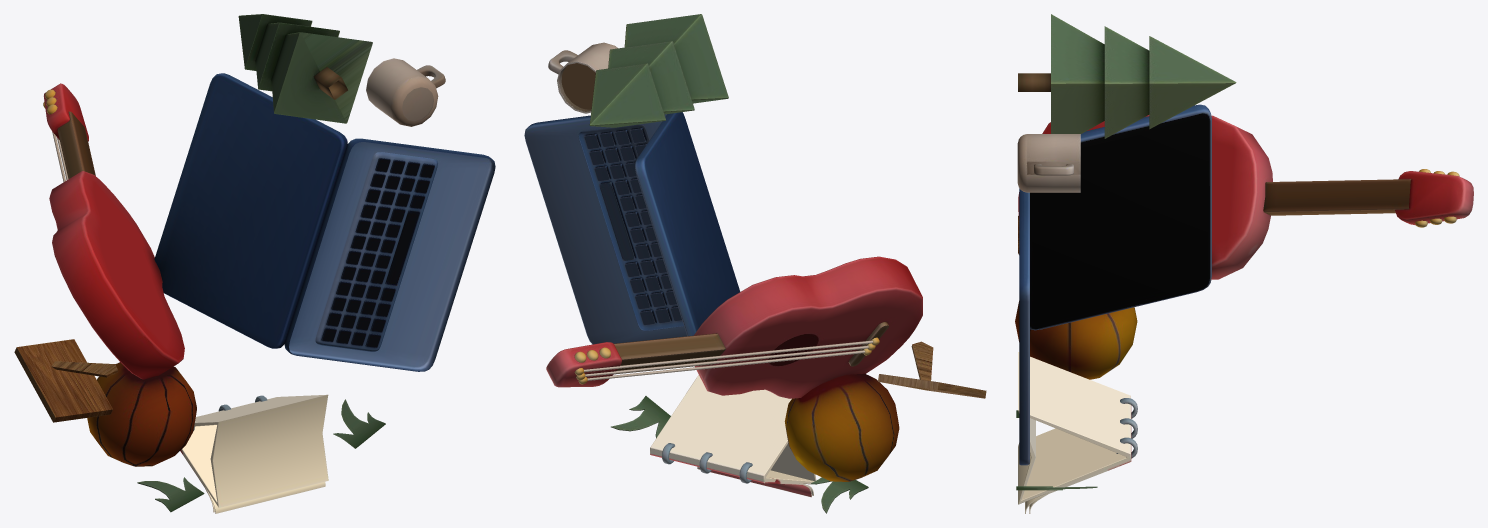
The model's file is hobbies.glb.
The picture shows the model from 3 angles, left to right: view 1: azimuth 30°, elevation 25°; view 2: azimuth 150°, elevation 25°; view 3: azimuth 270°, elevation 25°; orthographic projection. The views are drawn at different scales.
Parts seen in each view (by area): view 1: Travailler moins, Arbres_TravaillerMoins; view 2: Travailler moins, Arbres_TravaillerMoins; view 3: Travailler moins, Arbres_TravaillerMoins.
Boxes of the visible parts, box(x1,y1,x2,y2) form: Travailler moins: box(14, 58, 495, 513); Arbres_TravaillerMoins: box(137, 14, 385, 512); Travailler moins: box(524, 42, 986, 497); Arbres_TravaillerMoins: box(589, 14, 868, 513); Travailler moins: box(1015, 104, 1473, 513); Arbres_TravaillerMoins: box(1016, 14, 1236, 490).
Bounding box in the file's own units: 1.22 × 1.18 × 0.9972.
Materials: 2 (2 with a texture image).
